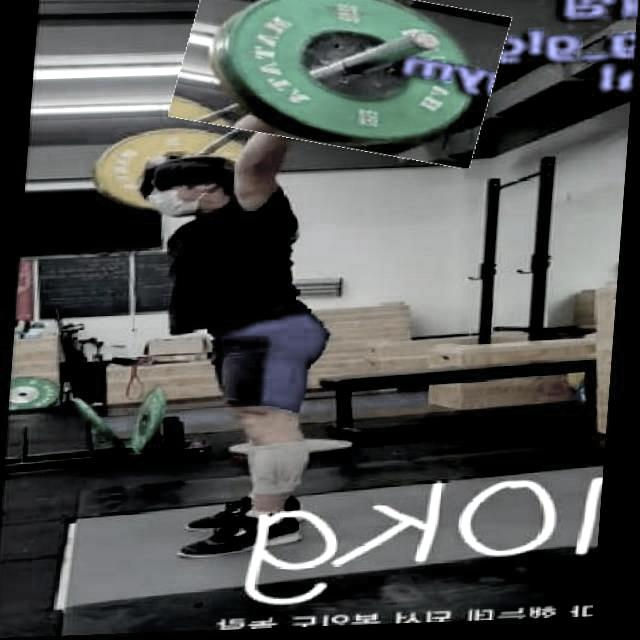barbell: (173, 1, 510, 167)
